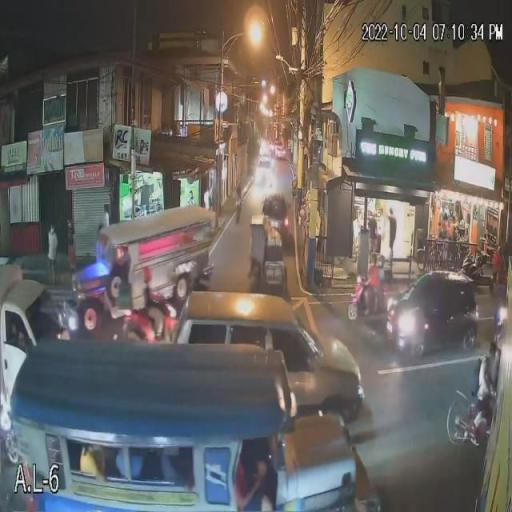helmet: (364, 247, 378, 269), (373, 256, 390, 270)
motorcycle: (348, 283, 387, 324)
rider: (362, 265, 380, 320), (377, 267, 388, 311)
